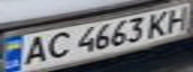3: (124, 15, 151, 43)
4: (75, 25, 100, 54)
6: (93, 20, 115, 52), (109, 18, 133, 47)
A: (15, 34, 51, 68)
C: (39, 29, 75, 61)
H: (160, 4, 193, 33)
K: (142, 9, 175, 38)
